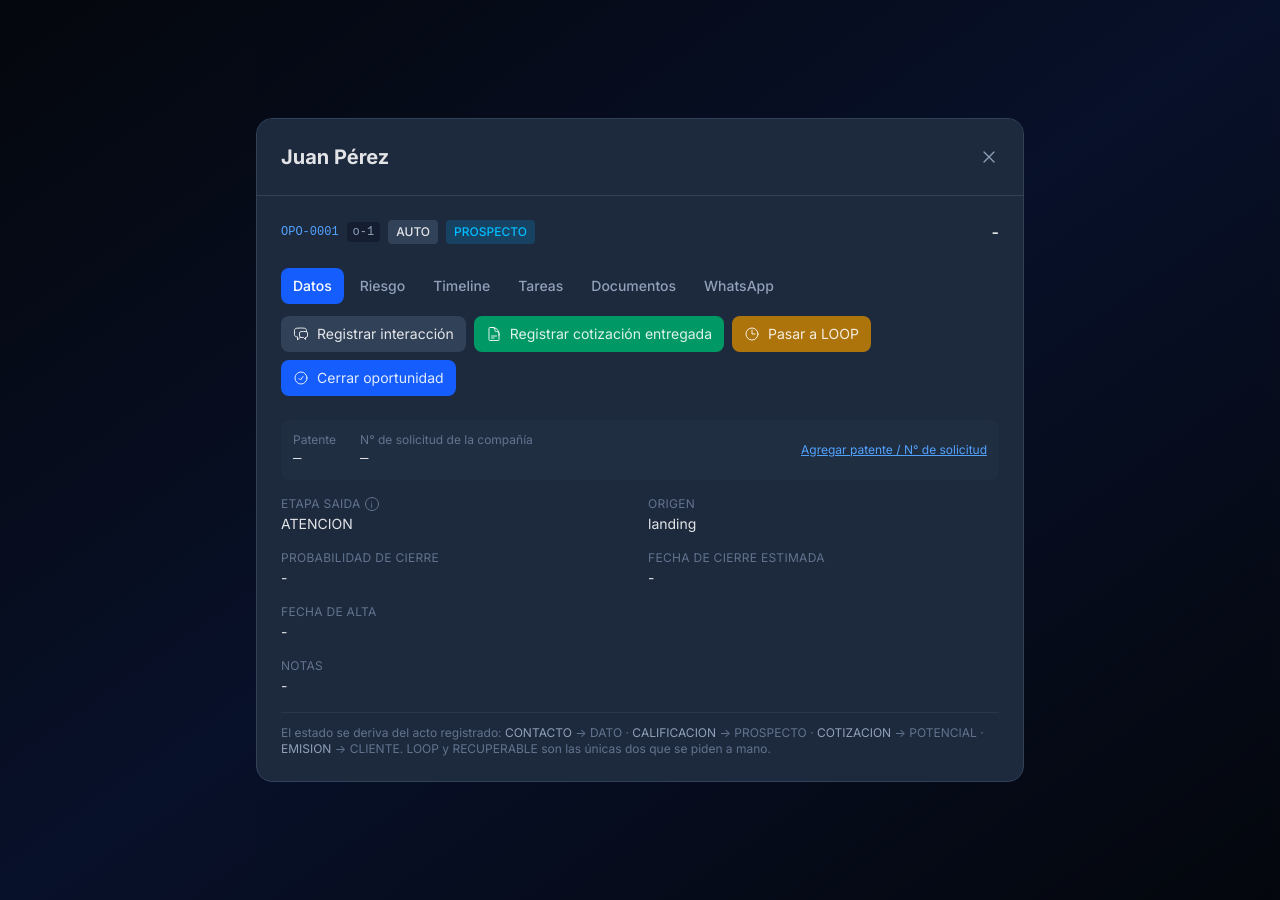
Test: ficha de oportunidad › la etapa es de sólo lectura, con tooltip, y se relee tras la cotización
Expected: the element with test id "etapa-saida-dato" shows "ATENCION", [281,515,353,532]
Click the button "Registrar cotización entregada": (599, 334) [474,316,724,352]
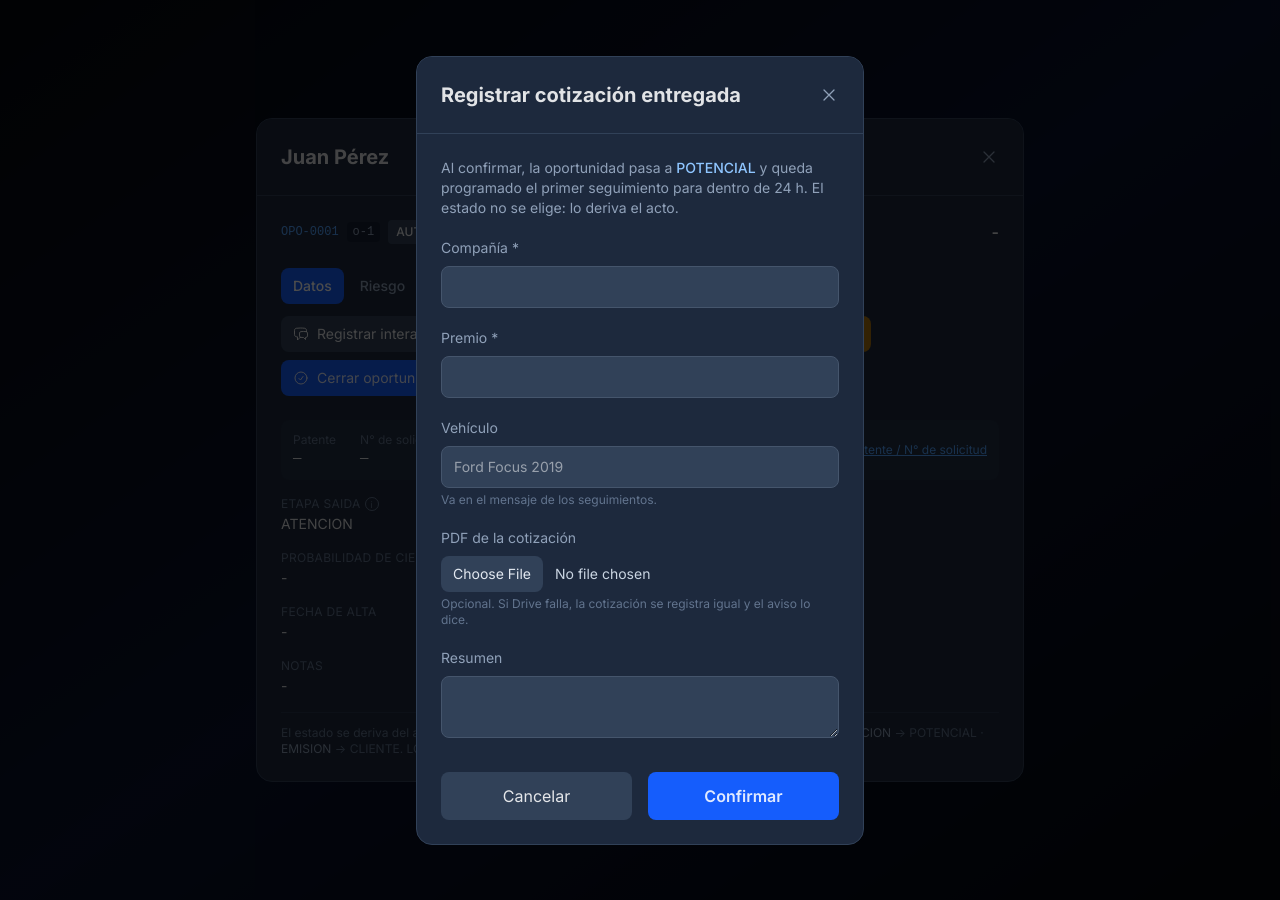
In the field labelled "Compañía *": (640, 286) [441,266,839,308], type "San Cristóbal"
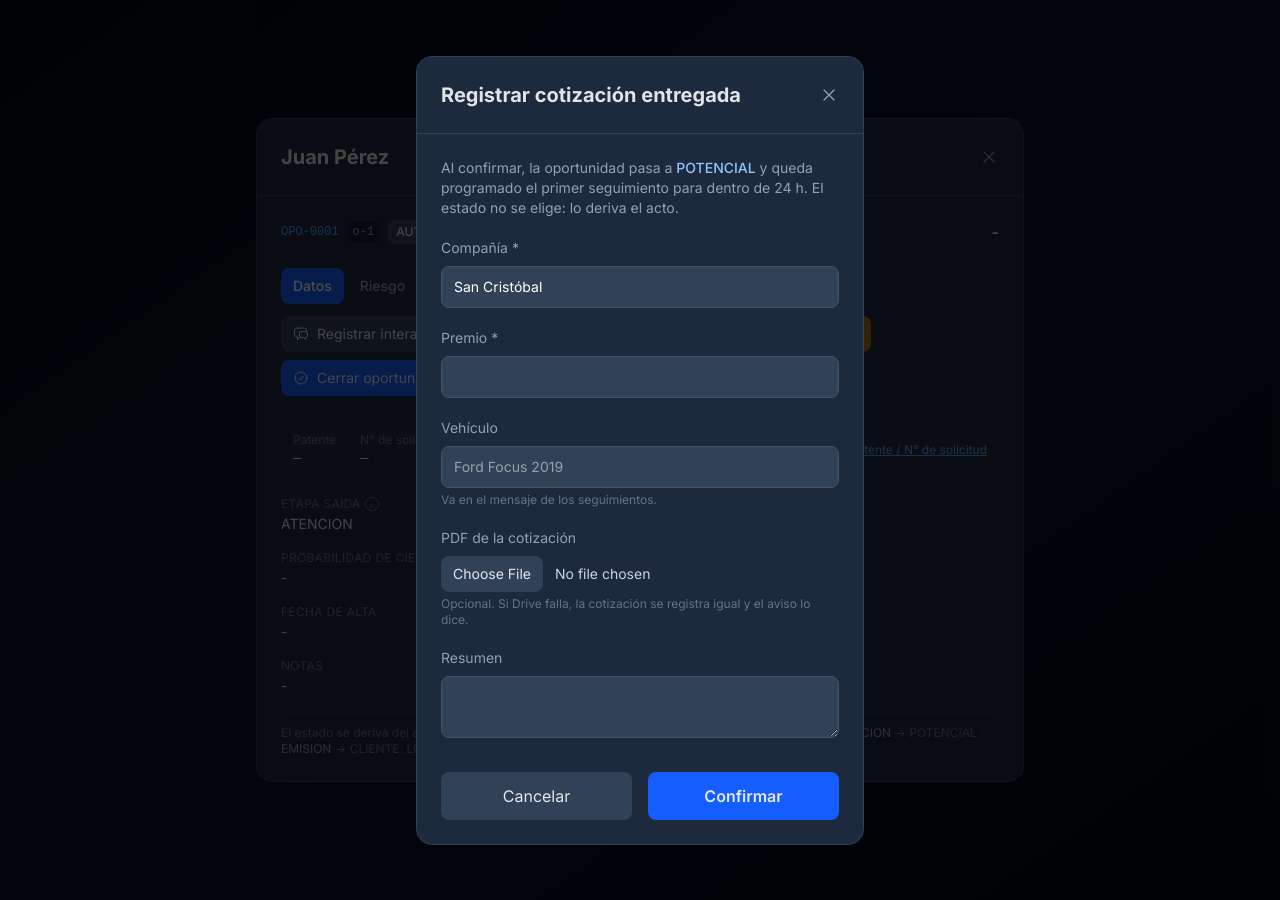
In the number field labelled "Premio *": (640, 376) [441,356,839,398], type "185000"
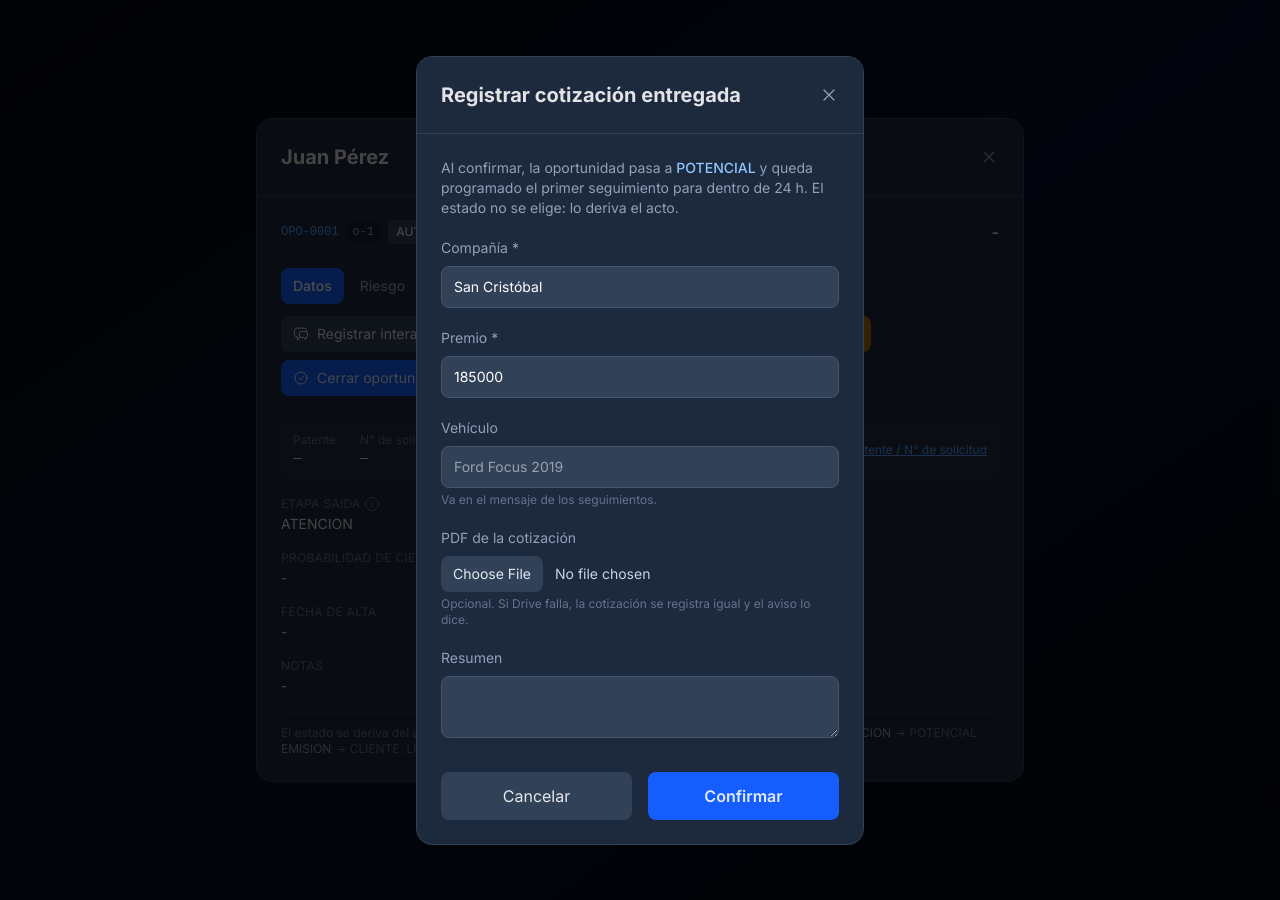
Click the button "Confirmar": (744, 796) [648,772,839,820]
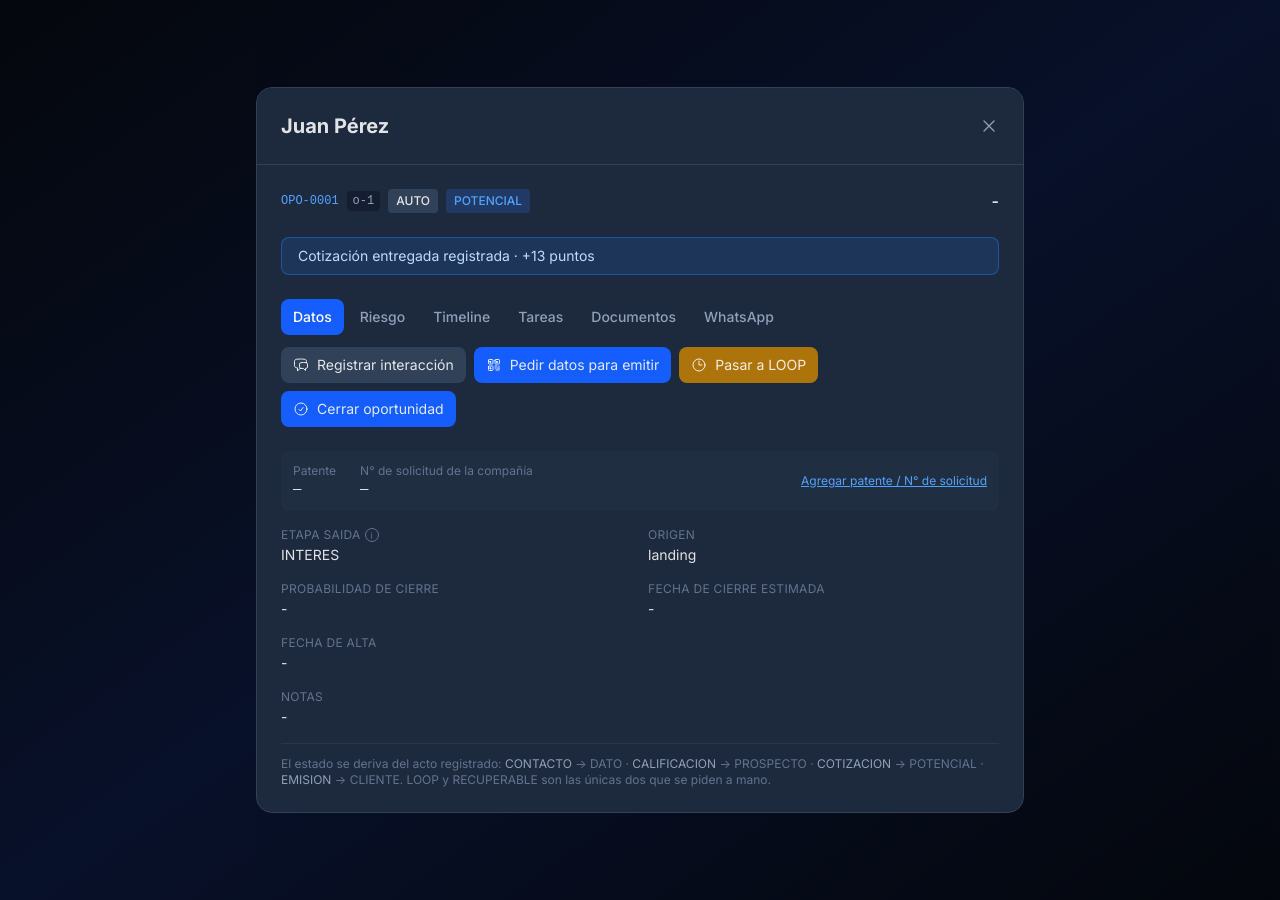
Now the element with test id "etapa-saida-dato" shows "INTERES", box [281,546,339,563]
